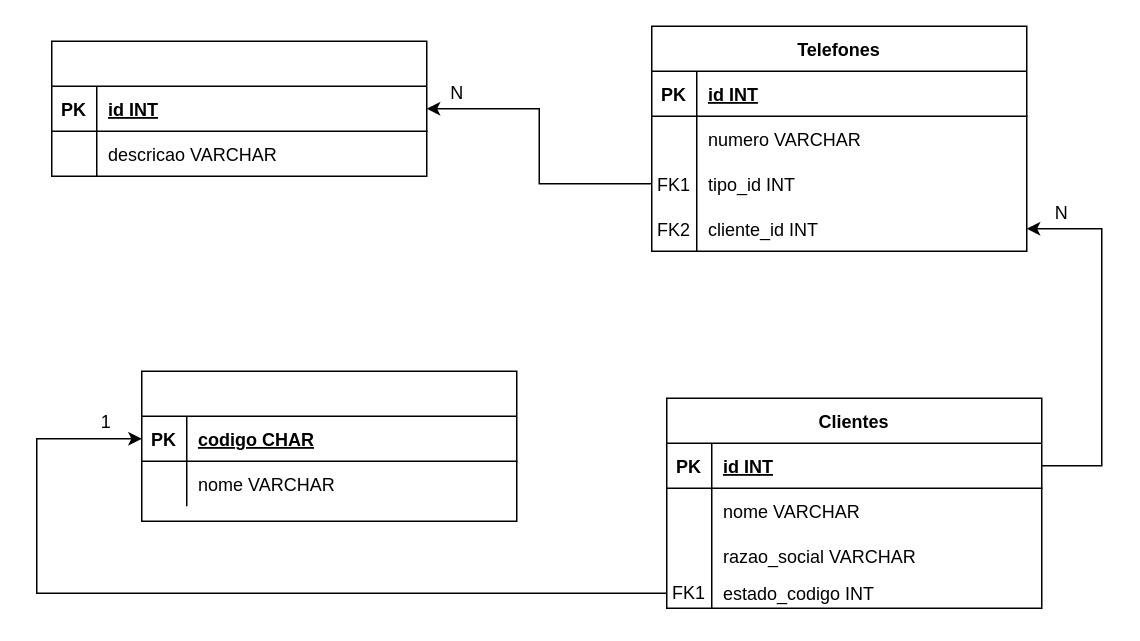
The diagram is 1140 pixels wide and 641 high, and some of its shapes have lost their labels. The box of each missing label's shape, as (x1, y1, x2, y2) in pixels:
Estados: (140, 370, 517, 521)
TiposDeTelefone: (50, 40, 427, 176)
